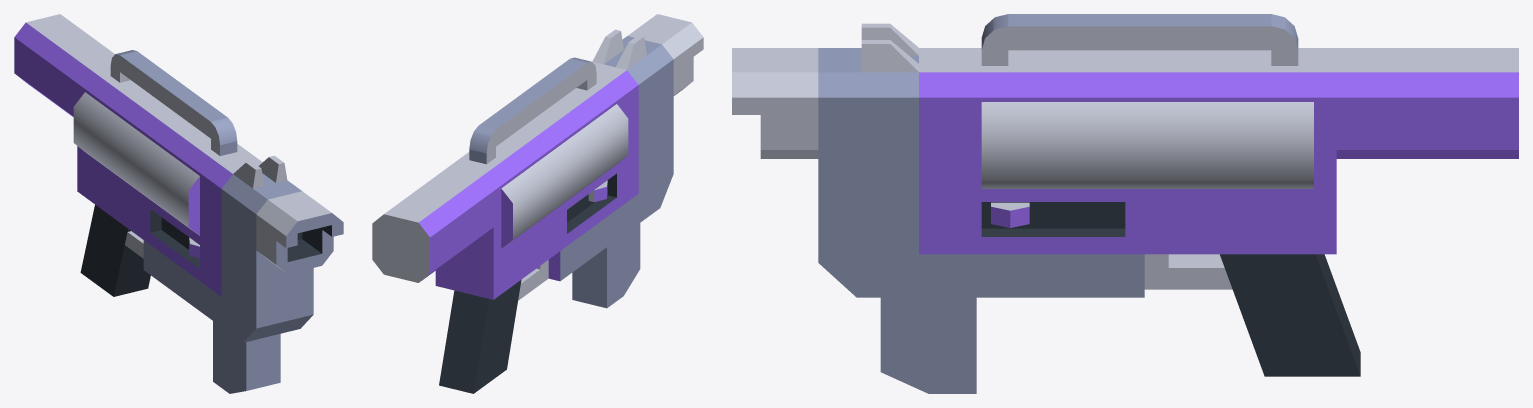
The model's file is blasterA.glb.
3 views of the same model, side by side, from view 1: azimuth 30°, elevation 25°; view 2: azimuth 150°, elevation 25°; view 3: azimuth 270°, elevation 25° (orthographic). The views are drawn at different scales.
Parts seen in each view (by area): view 1: blasterA; view 2: blasterA; view 3: blasterA.
Part boxes in pixels (x1,y1,x2,y2): blasterA: [14, 14, 343, 393]; blasterA: [372, 14, 703, 393]; blasterA: [732, 14, 1518, 393].
Size of the model in its own units: 0.14 by 0.4159 by 0.82.
